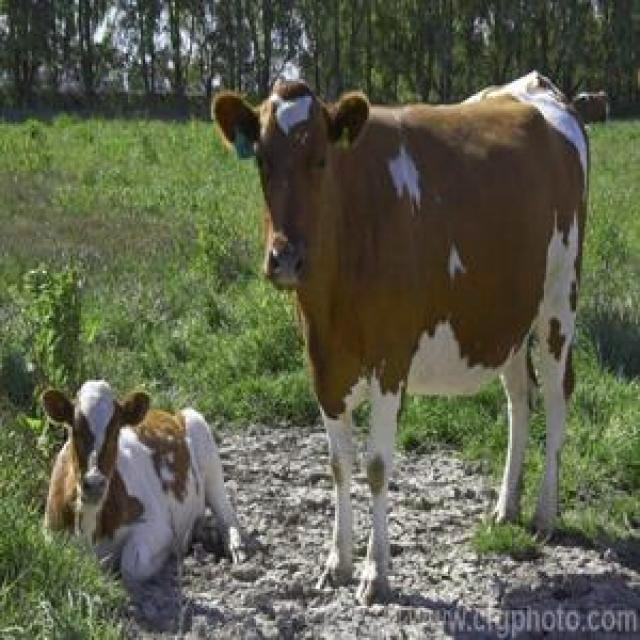cow: (212, 72, 589, 601), (41, 380, 239, 594)
